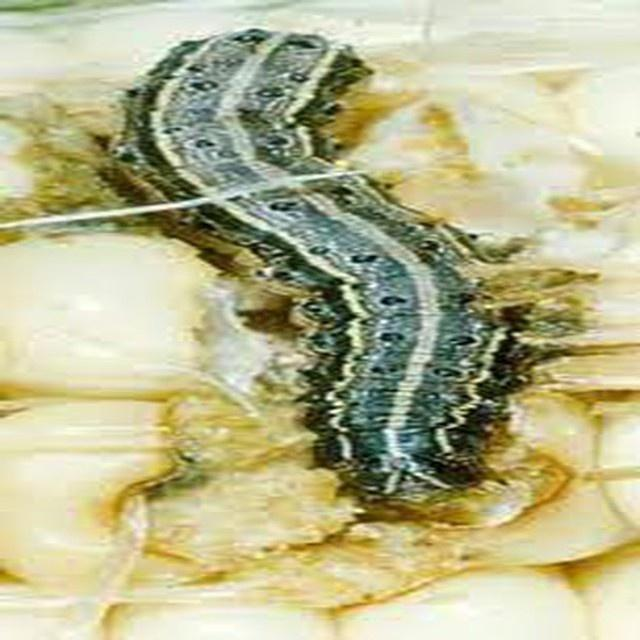Plaga: (131, 35, 506, 485)
